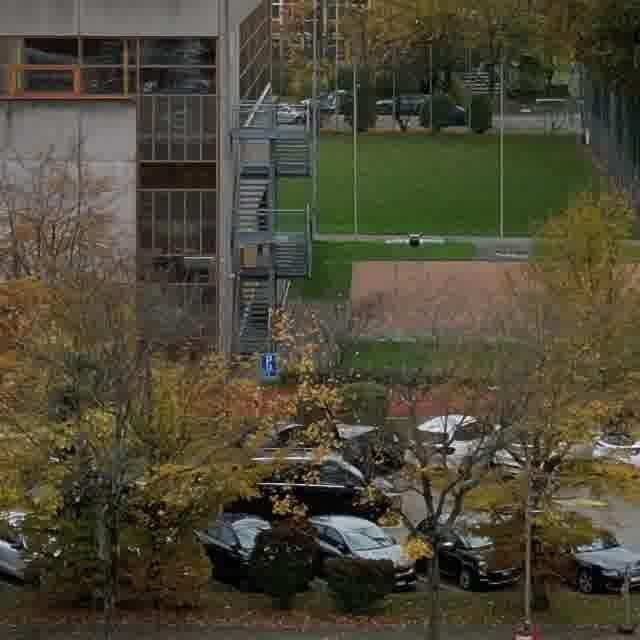Drohne: (385, 234, 444, 247)
